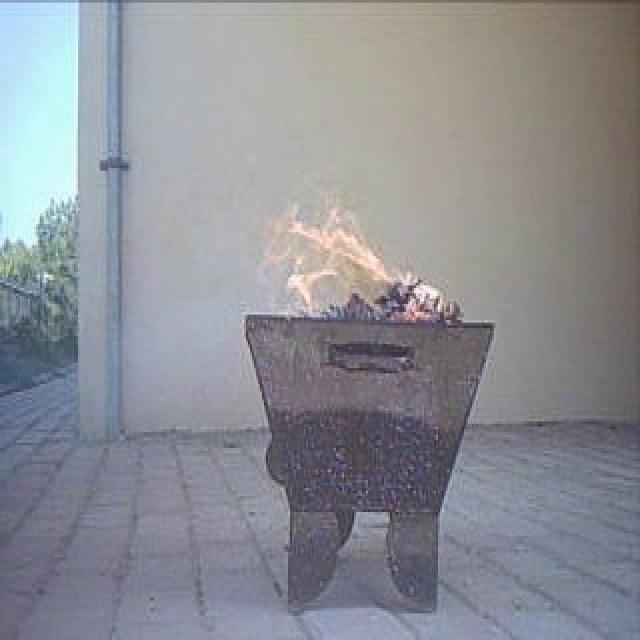fire: (280, 217, 390, 311)
